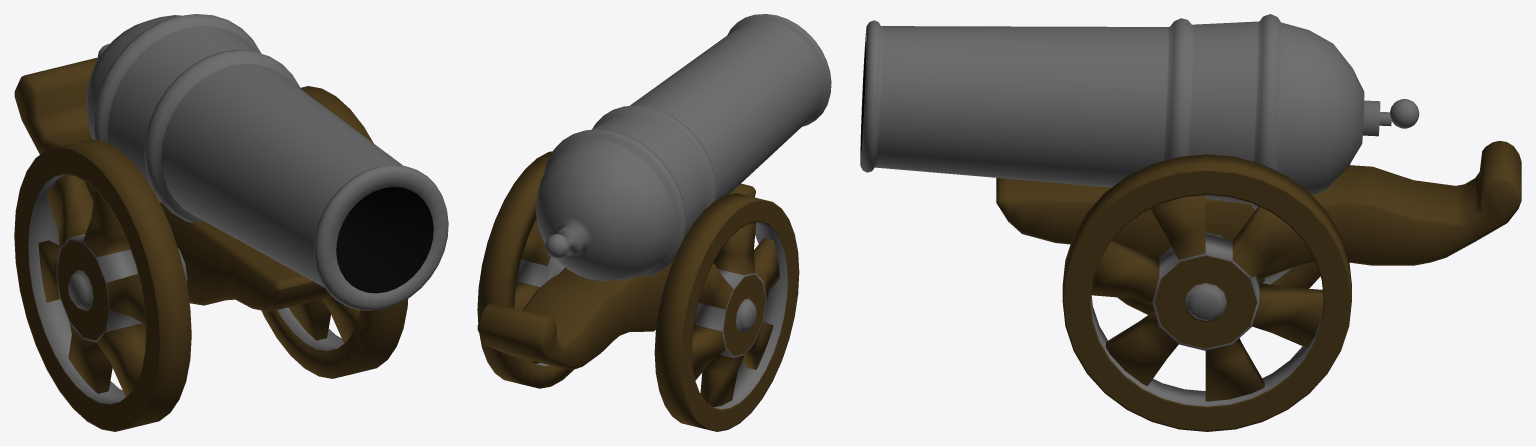
The model's file is Cannon.fbx.
The picture shows the model from 3 angles, left to right: view 1: azimuth 30°, elevation 25°; view 2: azimuth 150°, elevation 25°; view 3: azimuth 270°, elevation 25°; orthographic projection. The views are drawn at different scales.
Parts seen in each view (by area): view 1: Cylinder, Cylinder.001, Cube; view 2: Cylinder, Cylinder.001, Cube, Sphere; view 3: Cylinder, Cylinder.001, Cube, Sphere.
Boxes of the visible parts, left/top/right/bottom form: Cylinder: left=86, top=14, right=448, bottom=310; Cylinder.001: left=14, top=86, right=408, bottom=431; Cube: left=14, top=57, right=331, bottom=311; Cylinder: left=536, top=14, right=831, bottom=280; Cylinder.001: left=477, top=151, right=799, bottom=431; Cube: left=477, top=183, right=755, bottom=369; Sphere: left=545, top=234, right=569, bottom=258; Cylinder: left=860, top=14, right=1391, bottom=209; Cylinder.001: left=1062, top=154, right=1351, bottom=431; Cube: left=996, top=141, right=1521, bottom=279; Sphere: left=1390, top=99, right=1419, bottom=128.
Bounding box in the file's own units: 158 × 193 × 331.
